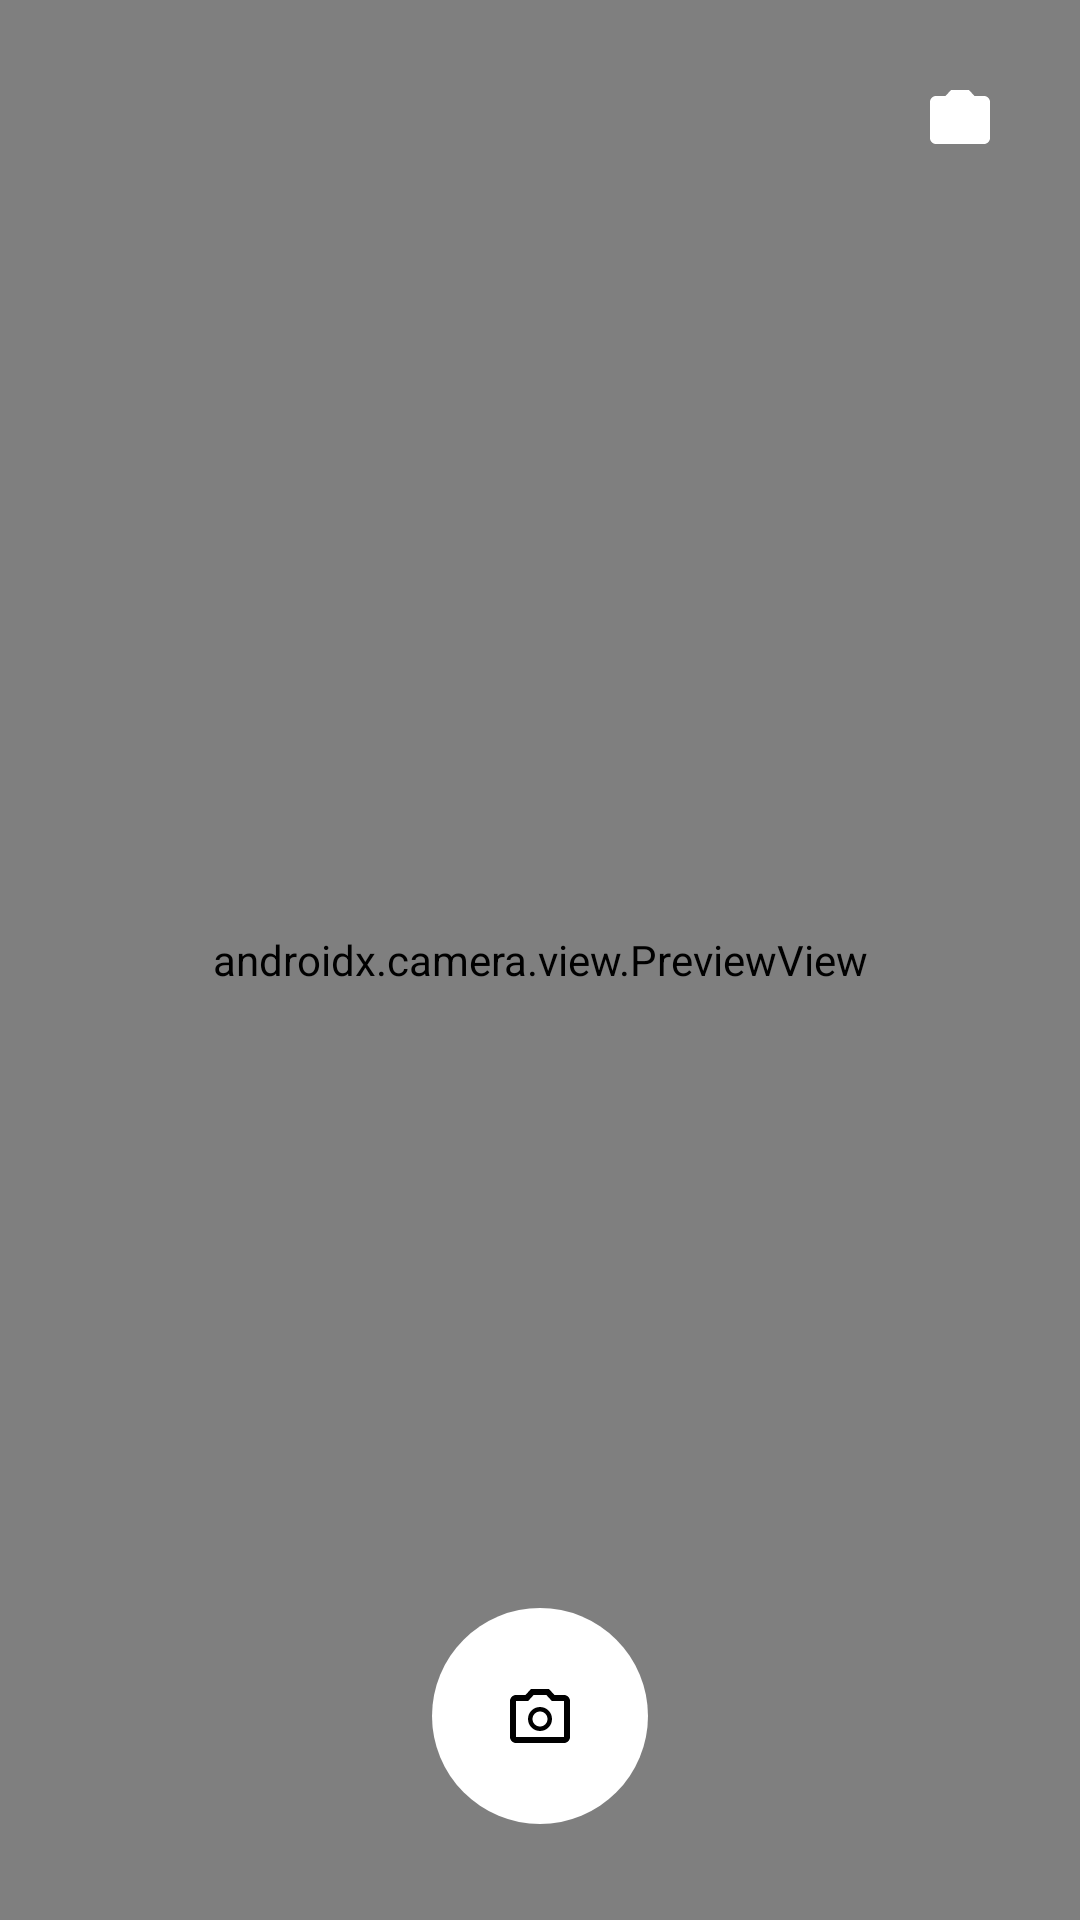

Where icons sit on this 1080×1920 app screen, as (left=x1, top=y1, right=x2, bottom=y2):
Capture Photo: (left=432, top=1608, right=648, bottom=1824)
